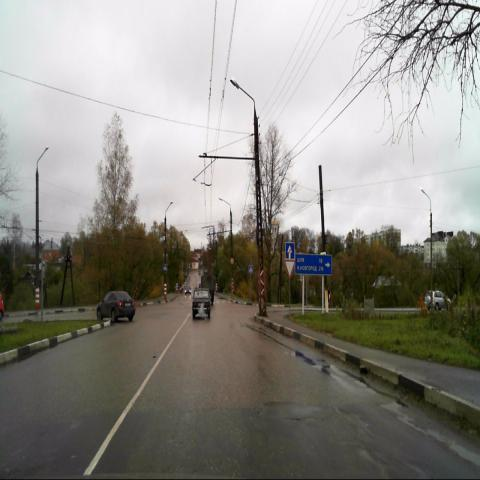2_4: (284, 259, 294, 279)
5_6: (284, 241, 294, 260)
